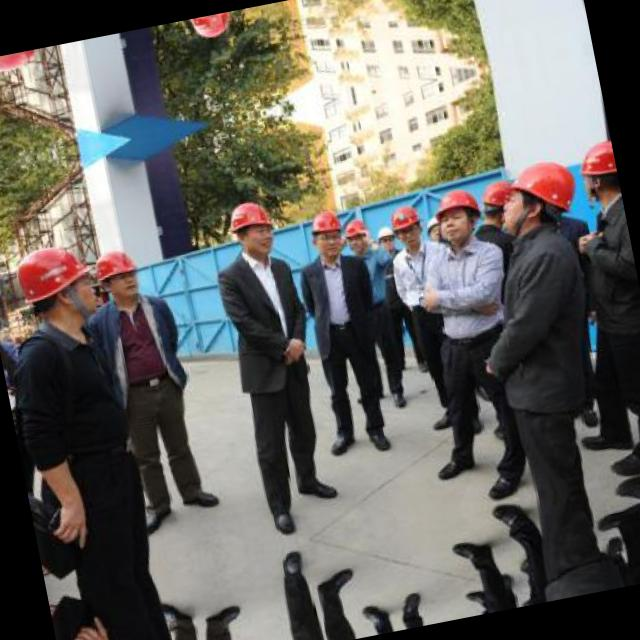helmet: (12, 238, 100, 334), (494, 154, 580, 236), (222, 194, 278, 259), (573, 135, 621, 209), (90, 242, 143, 308), (431, 183, 485, 246), (478, 172, 532, 232), (304, 204, 346, 261), (186, 10, 238, 46), (386, 201, 424, 249), (0, 47, 51, 79), (344, 215, 374, 256), (372, 220, 400, 260)
